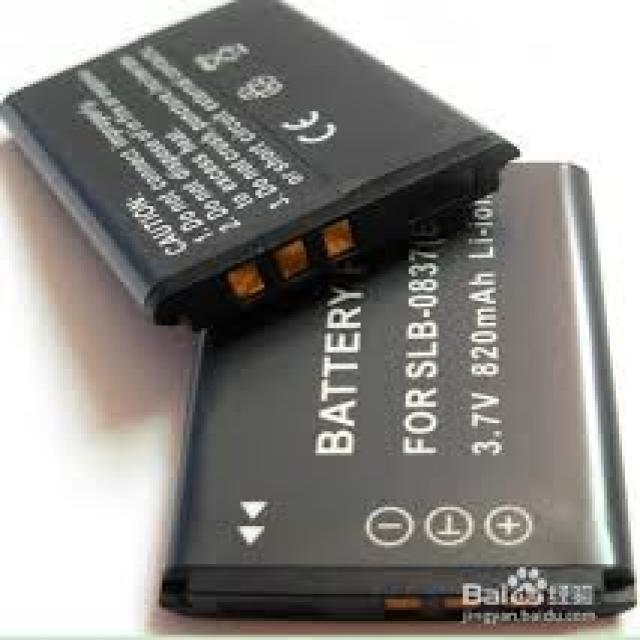non-organic waste: (155, 165, 634, 626), (0, 0, 517, 325)
